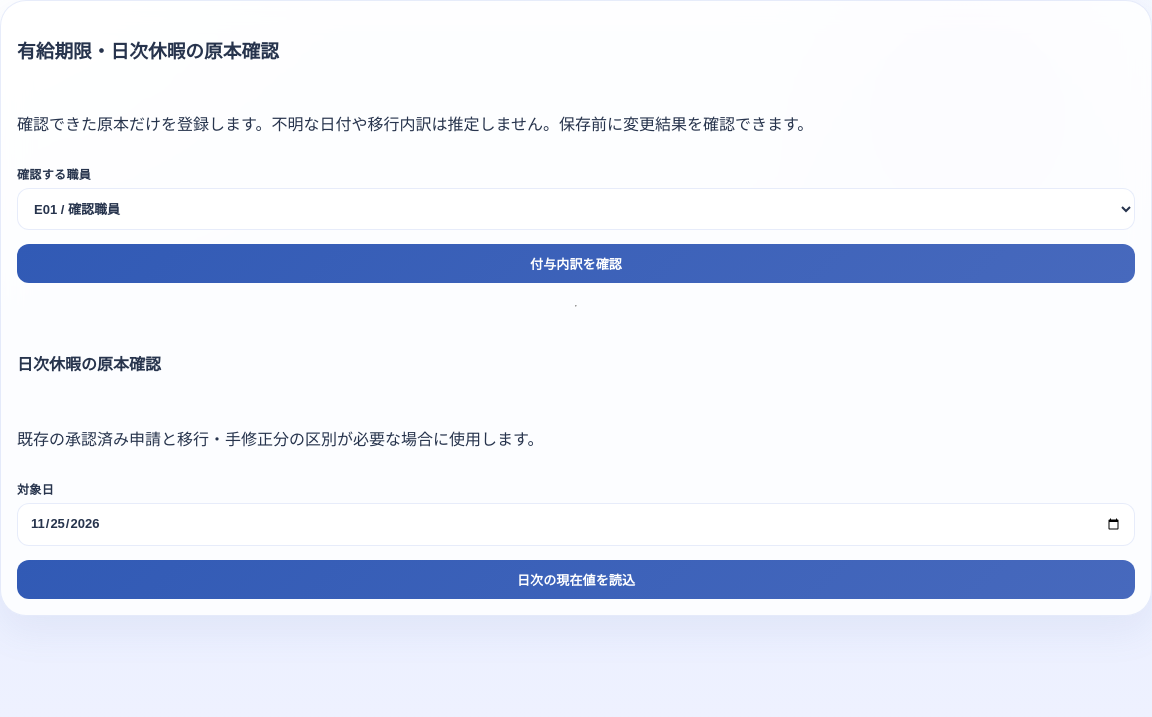
Scenario: leave source review › leaves ambiguous daily baseline unconfirmed until an explicit source entry
The image size is (1152, 717).
Later steps or results of the test are not shown.
Type "2026-10-12" into the date field labelled "対象日" at x=576, y=524, box [17,503,1135,546]
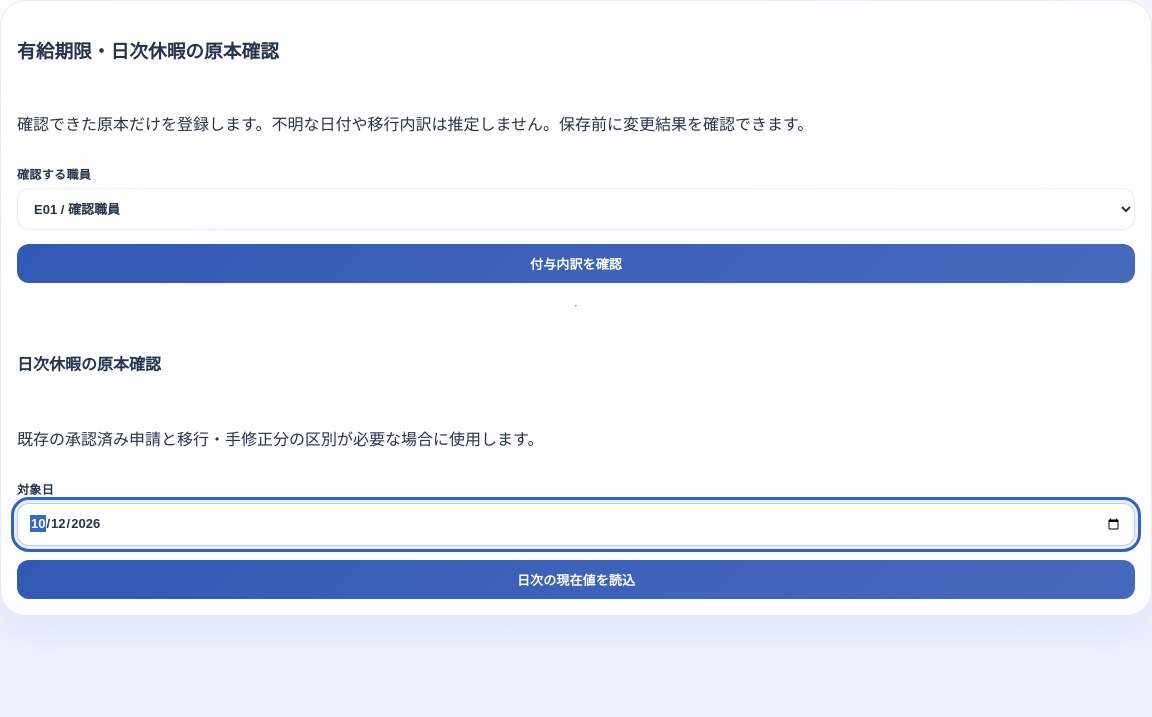
Click the button "日次の現在値を読込" at x=576, y=579, box [17,560,1135,599]
(page scrolled)
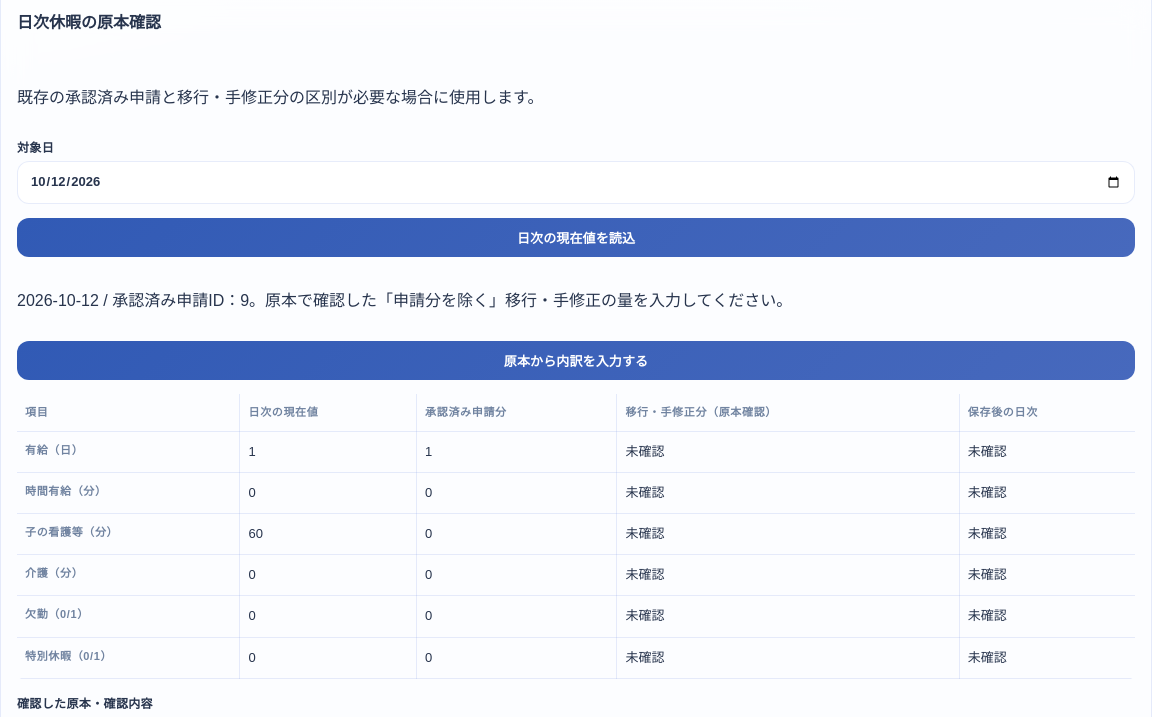
Check: the button "原本から内訳を入力する" is shown, box [17,341,1135,380]
